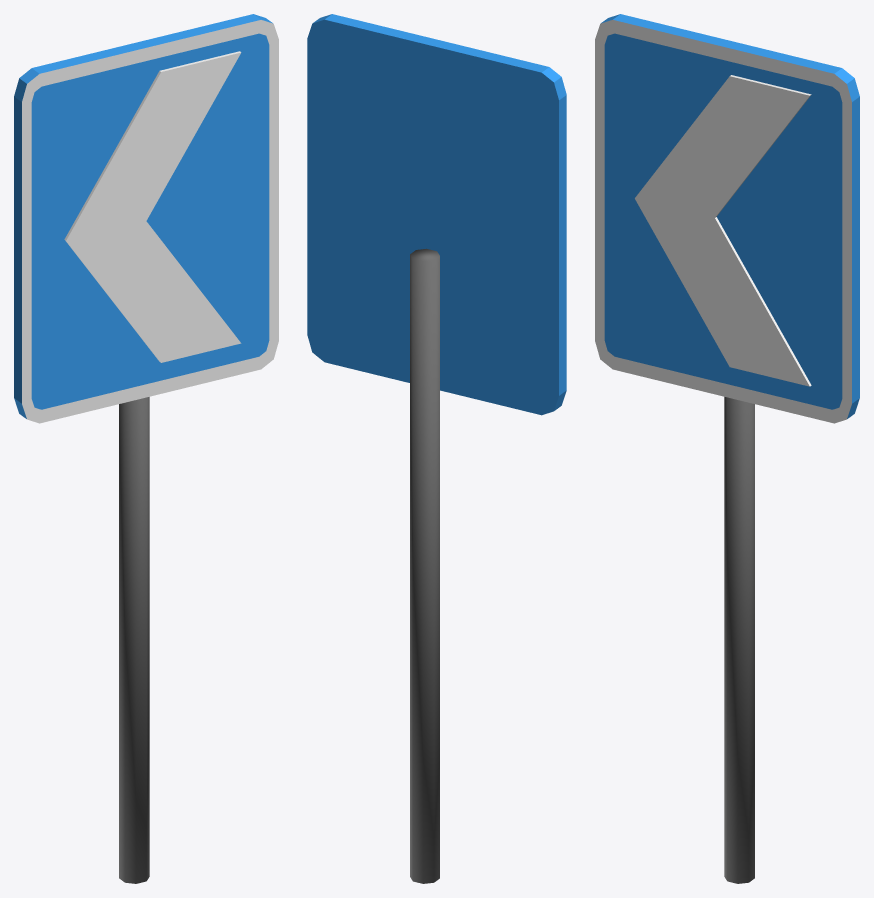
File: Prop_StreetSign_Left.fbx
3 views of the same model, side by side, from view 1: azimuth 30°, elevation 25°; view 2: azimuth 150°, elevation 25°; view 3: azimuth 330°, elevation 25° (orthographic). The views are drawn at different scales.
Parts seen in each view (by area): view 1: Prop_StreetSign_Left; view 2: Prop_StreetSign_Left; view 3: Prop_StreetSign_Left.
Boxes of the visible parts, bbox=[...] form: Prop_StreetSign_Left: bbox=[14, 14, 278, 883]; Prop_StreetSign_Left: bbox=[307, 14, 566, 883]; Prop_StreetSign_Left: bbox=[595, 14, 859, 883].
Size of the model in its own units: 140 by 438 by 24.08.
